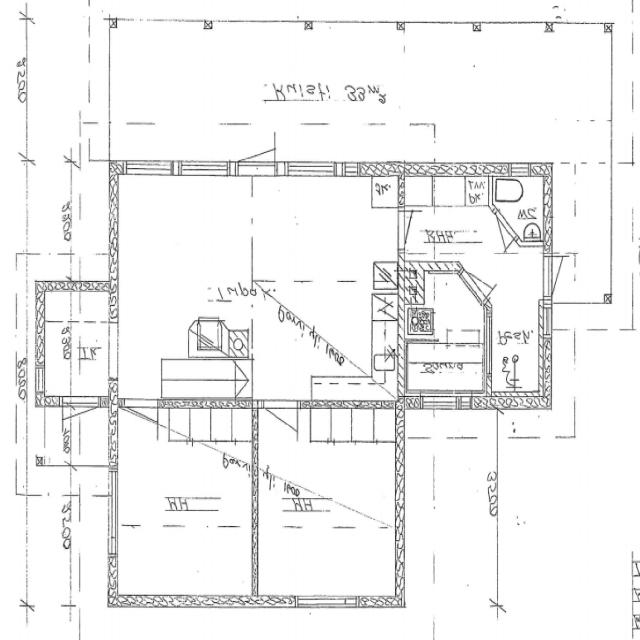door: (461, 241, 508, 304), (476, 210, 518, 264), (238, 114, 275, 175), (62, 396, 99, 454), (264, 398, 298, 451), (125, 398, 157, 448), (543, 256, 582, 296), (398, 211, 435, 250)
